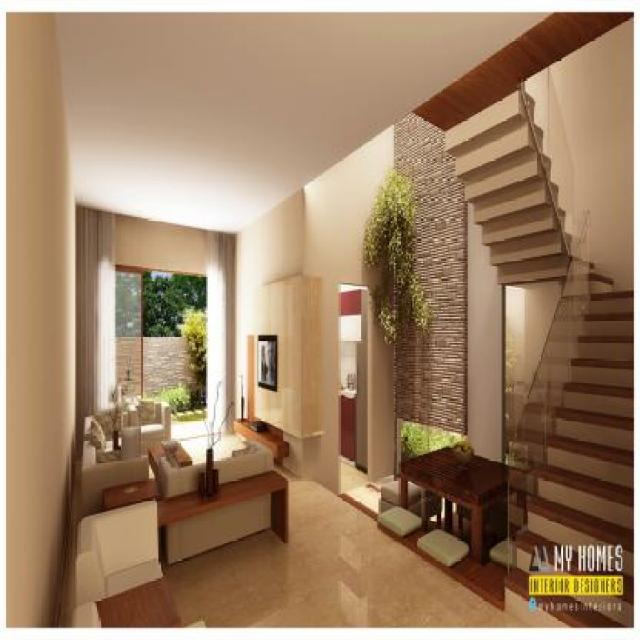Floor: (158, 461, 532, 629), (340, 460, 371, 493), (212, 433, 247, 460), (178, 436, 208, 465), (213, 435, 219, 443), (208, 436, 212, 448)
